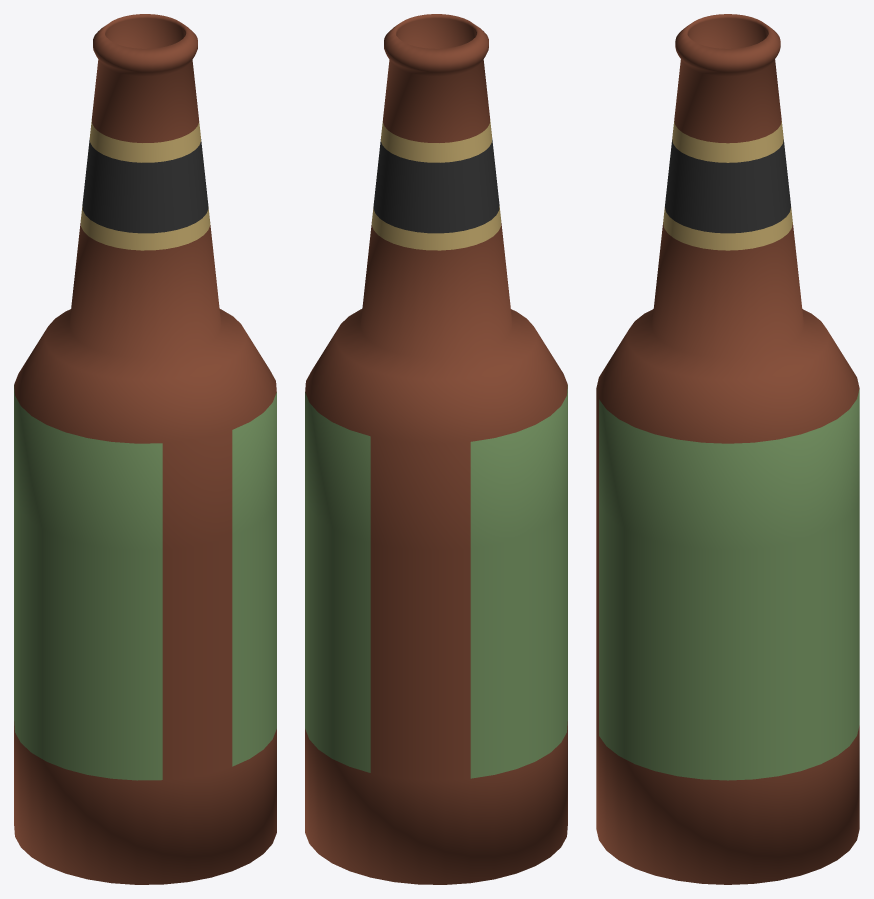
File: simple beer bottle.fbx
3 renders of one model, left to right at view 1: azimuth 30°, elevation 25°; view 2: azimuth 150°, elevation 25°; view 3: azimuth 270°, elevation 25°, orthographic.
Visible parts, largest first — view 1: Cylinder; view 2: Cylinder; view 3: Cylinder.
Boxes of the visible parts, bbox=[...] form: Cylinder: bbox=[14, 14, 276, 884]; Cylinder: bbox=[305, 14, 567, 884]; Cylinder: bbox=[596, 14, 859, 884].
Size of the model in its own units: 200 by 669 by 200.
